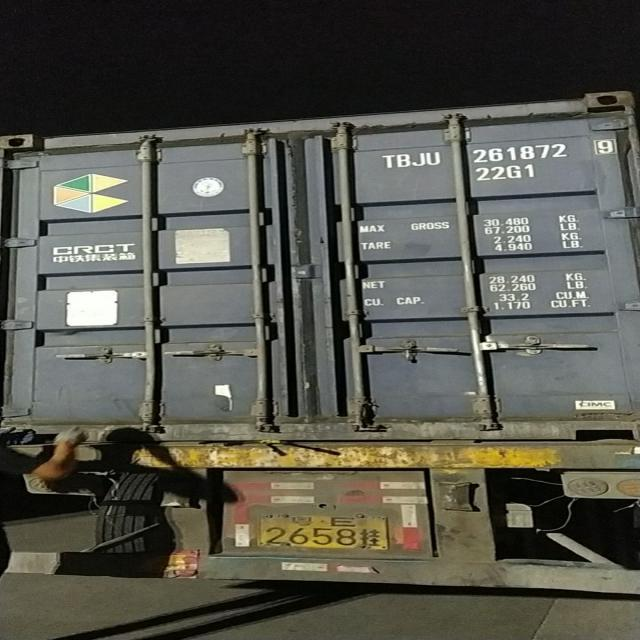ISO: (479, 162, 536, 182)
container_number: (374, 129, 618, 167)
